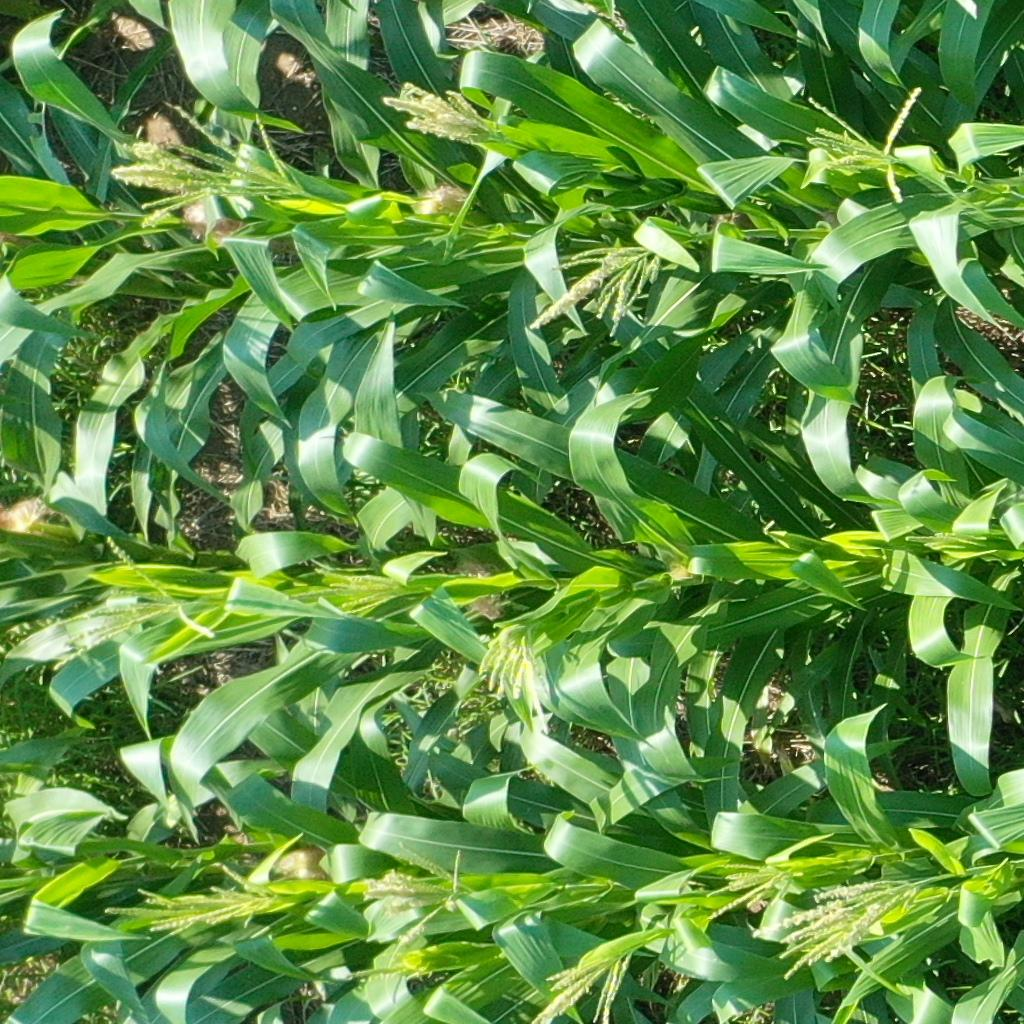Tassel: (105, 100, 296, 238), (50, 535, 217, 671), (354, 834, 471, 998), (760, 879, 928, 980), (797, 80, 917, 205), (88, 861, 280, 938), (522, 239, 664, 341), (472, 621, 560, 736), (523, 937, 639, 1024), (692, 851, 812, 921), (277, 558, 409, 619), (385, 79, 493, 147), (897, 524, 986, 563)
